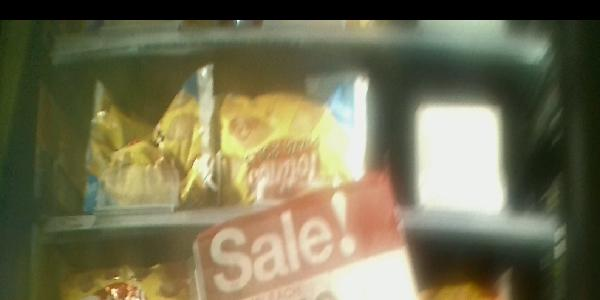icecream: (217, 66, 367, 212), (80, 61, 217, 216)
